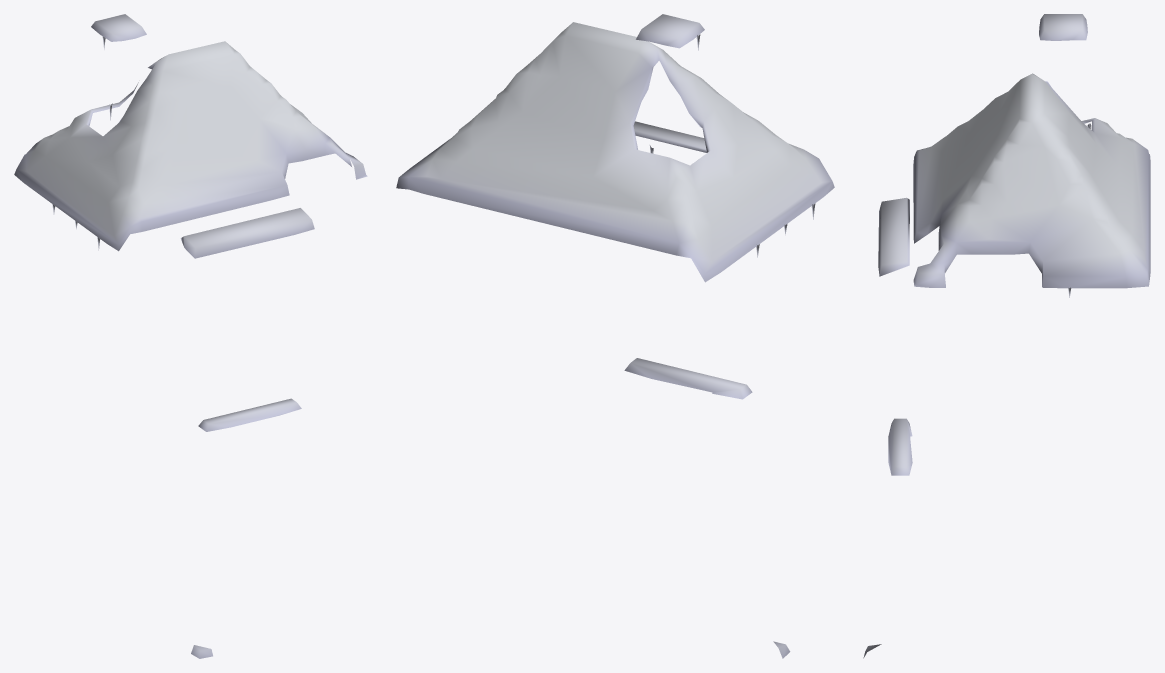
Rendered from category.governance.s.snow.glb.
3 views of the same model, side by side, from view 1: azimuth 30°, elevation 25°; view 2: azimuth 150°, elevation 25°; view 3: azimuth 270°, elevation 25° (orthographic). The views are drawn at different scales.
Visible parts, largest first — view 1: snow, tier.2; view 2: snow, tier.2; view 3: snow, tier.2.
Boxes of the visible parts, x1,y1,x2,y2 form: snow: (14,14,367,658); tier.2: (180,208,314,258); snow: (396,14,834,658); tier.2: (633,121,706,152); snow: (863,14,1150,658); tier.2: (878,197,909,276).
Size of the model in its own units: 3.4 by 7.26 by 2.98.
